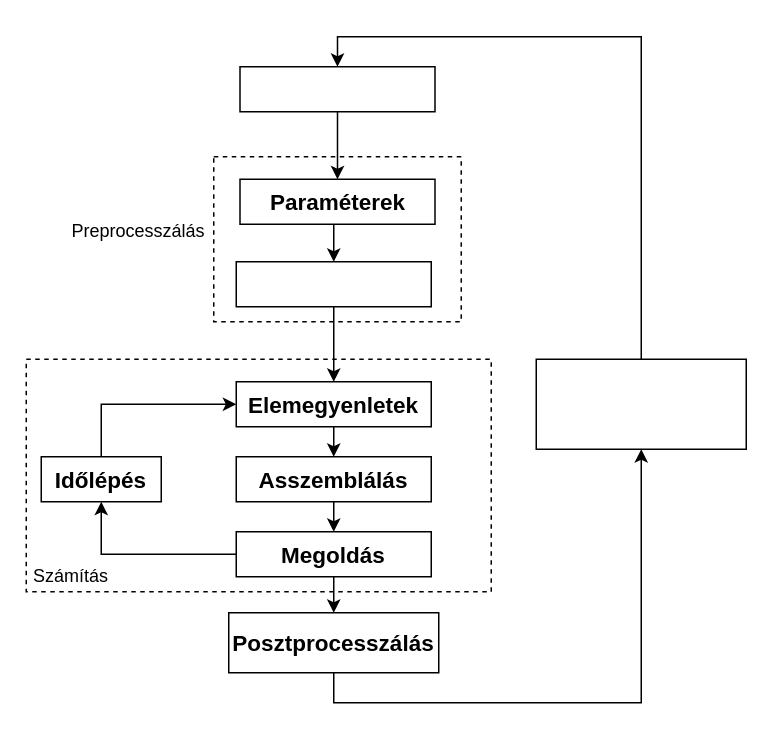
This 773x741 diagram has some shape labels left out. Each missing label, with the centre of its shape:
Hálógenerálás: pixel 333 283
Modellkészítés: pixel 336 88
Optimalizálás / modell módosítás: pixel 640 403
